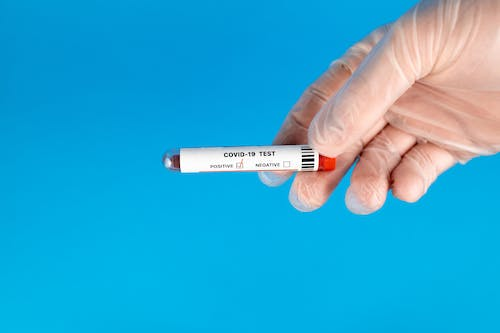blood: (161, 145, 179, 173)
